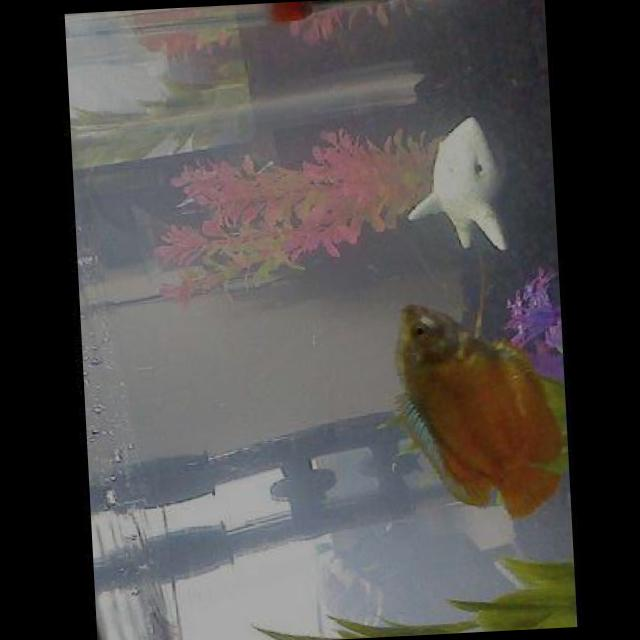Gourami: (381, 290, 564, 528)
